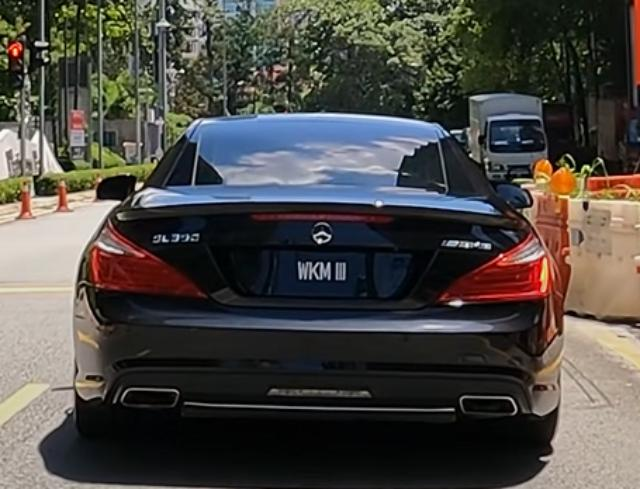License_Plate: (279, 253, 366, 296)
car: (72, 112, 571, 453)
